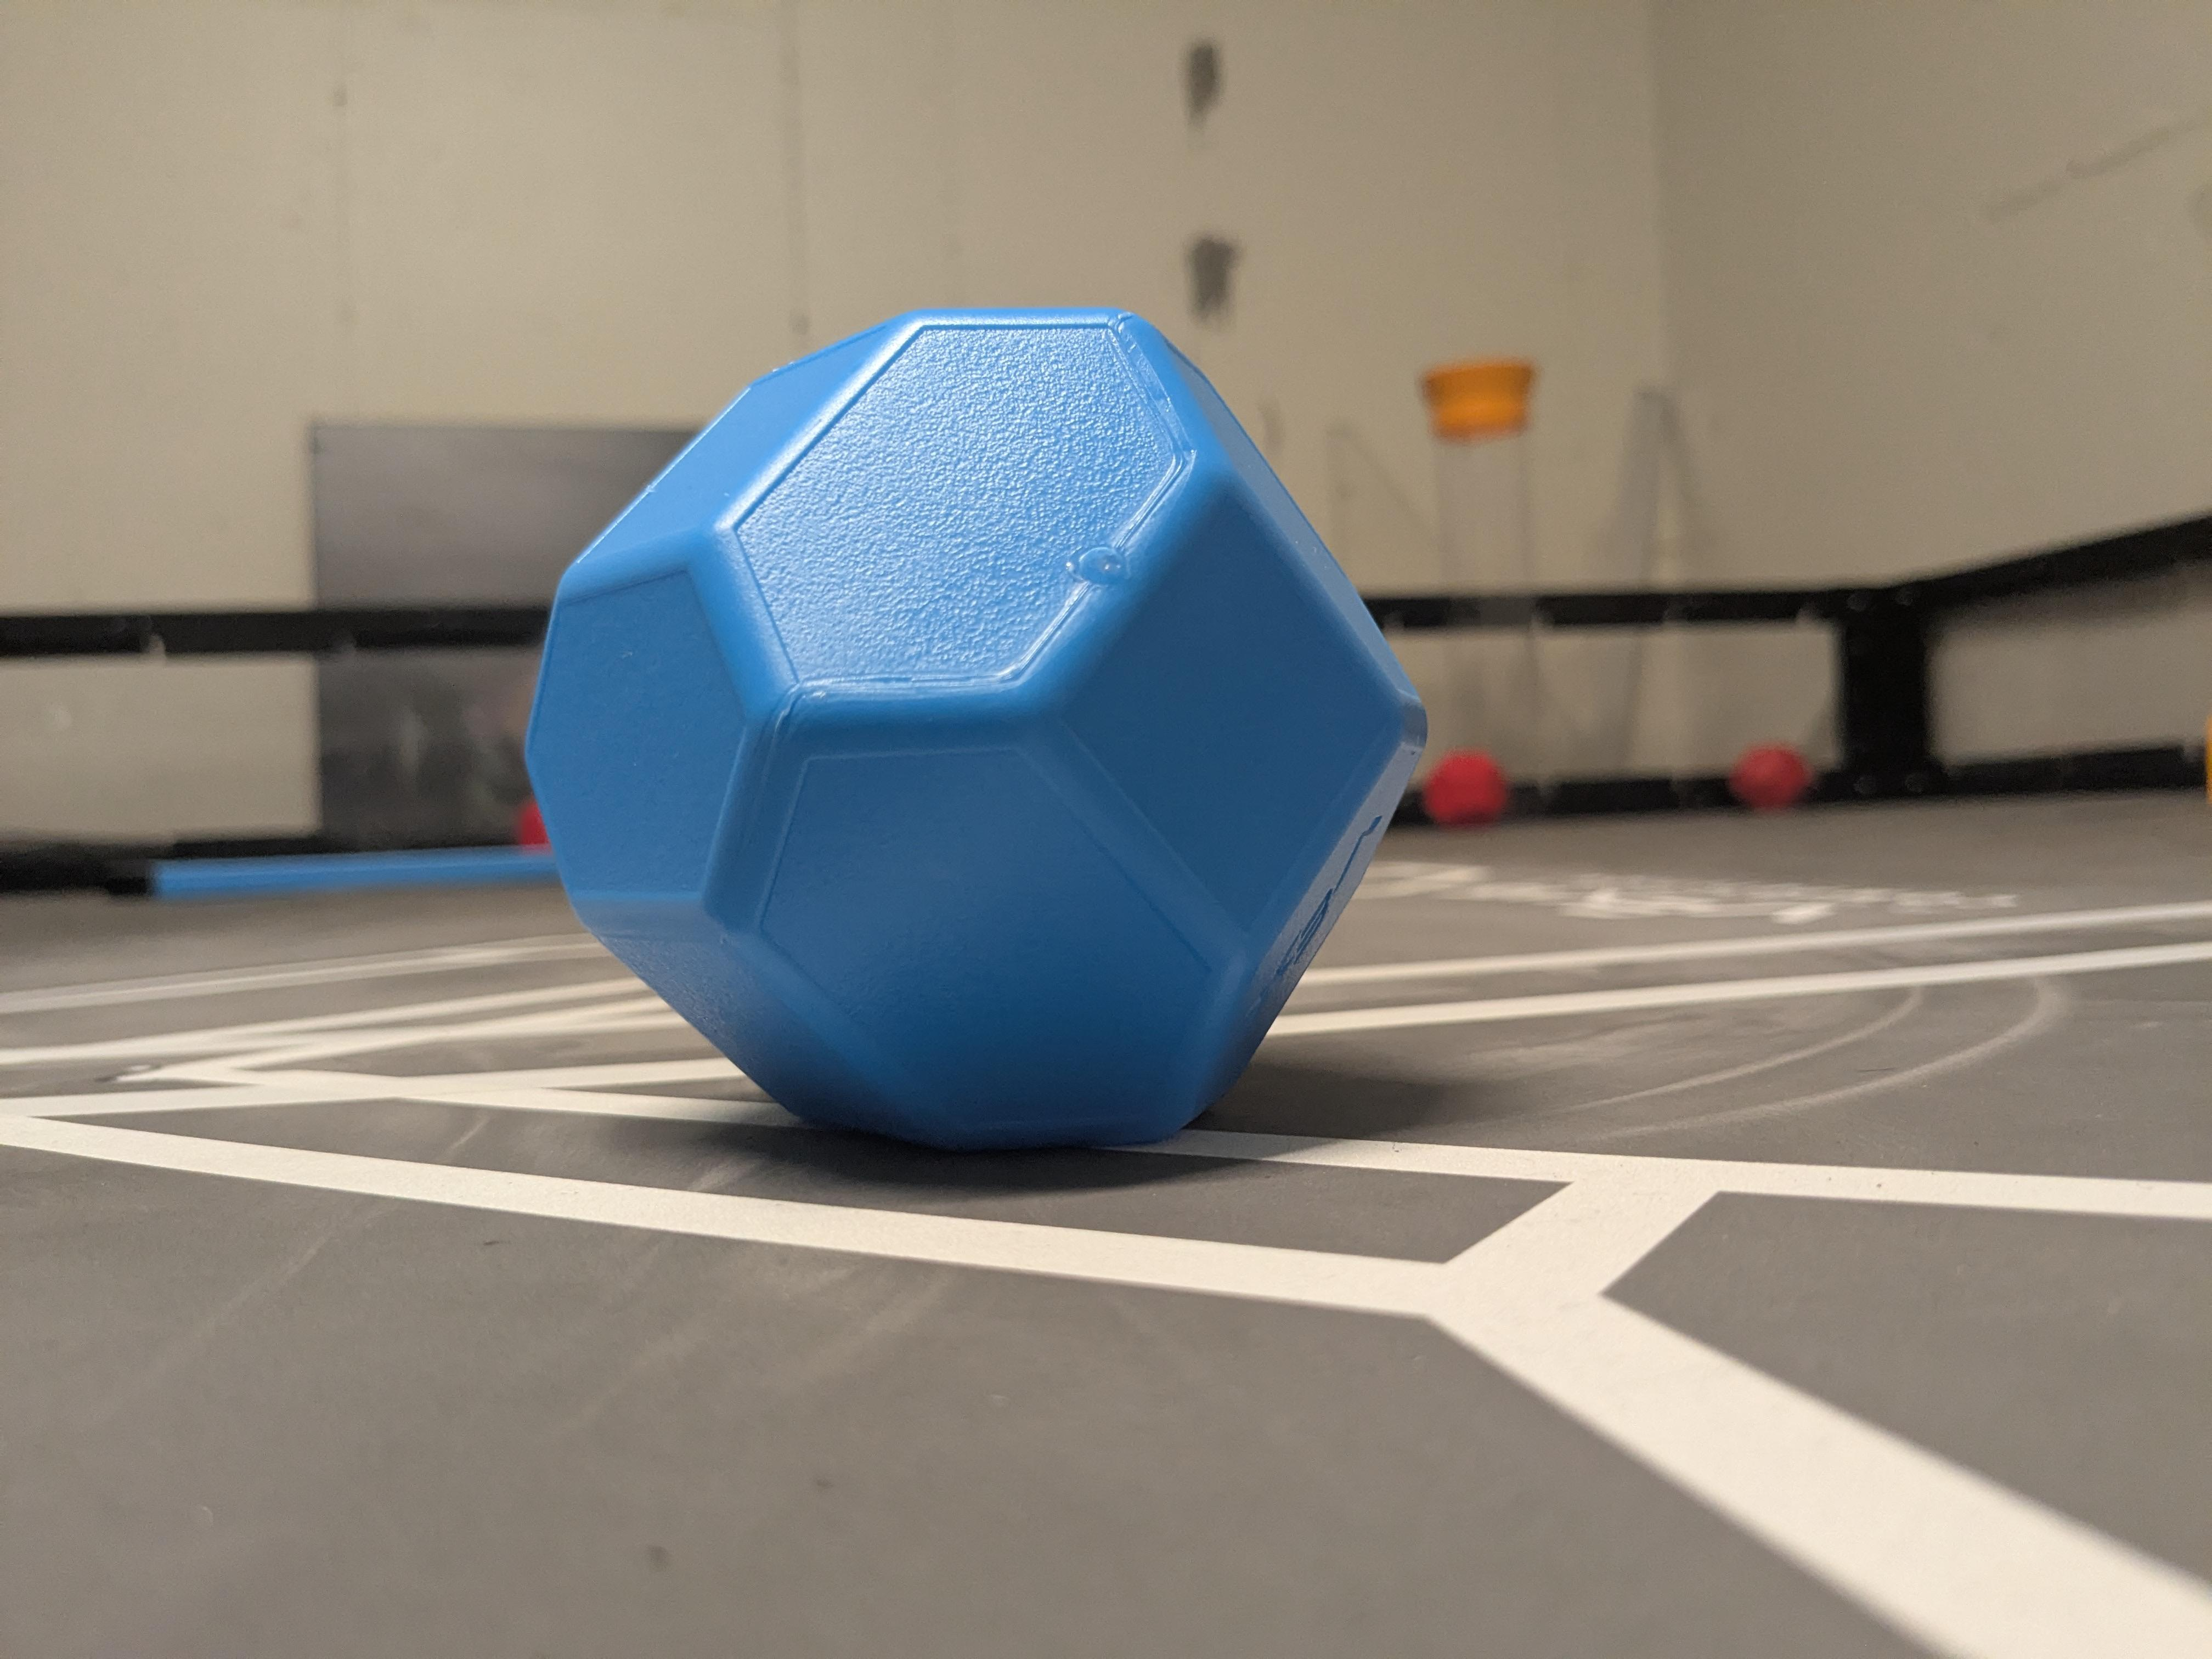Vex-Pieces-BLUE: (524, 312, 1423, 1161)
